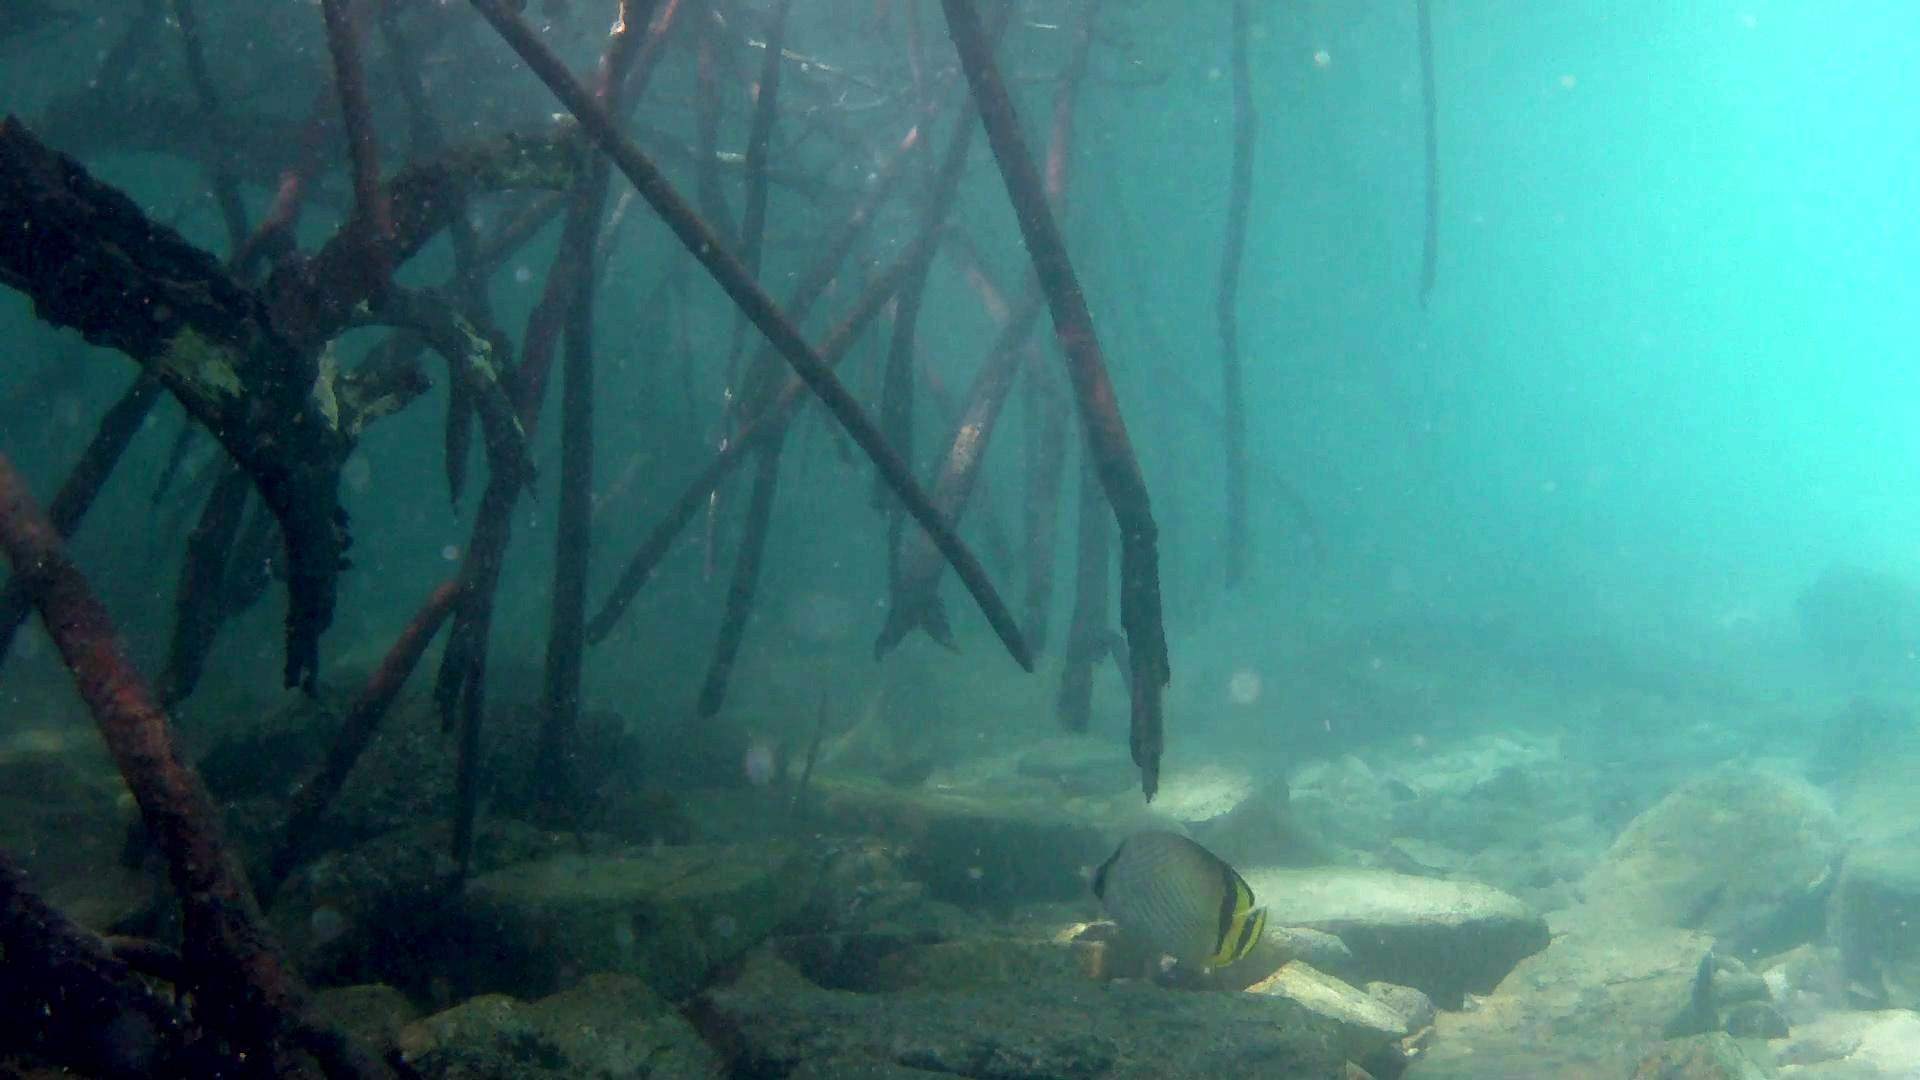chaetodon vagabundus: (1071, 824, 1273, 975)
